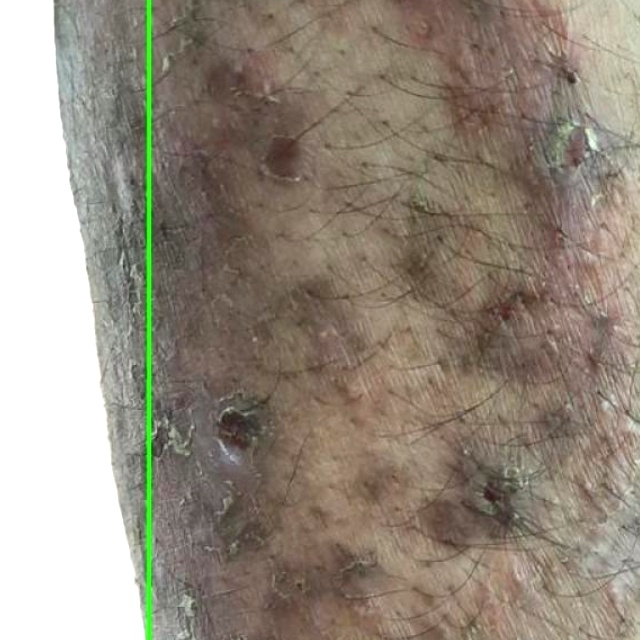Tinea Corporis: (0, 0, 149, 639)
